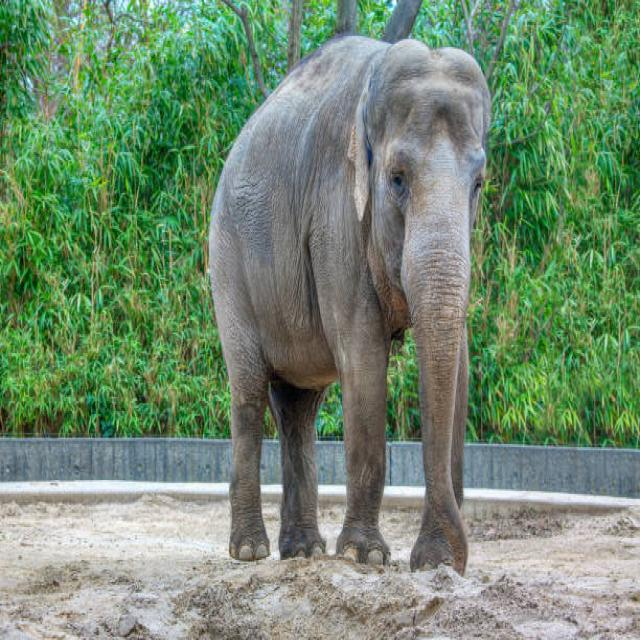Elephant: (205, 36, 488, 598)
